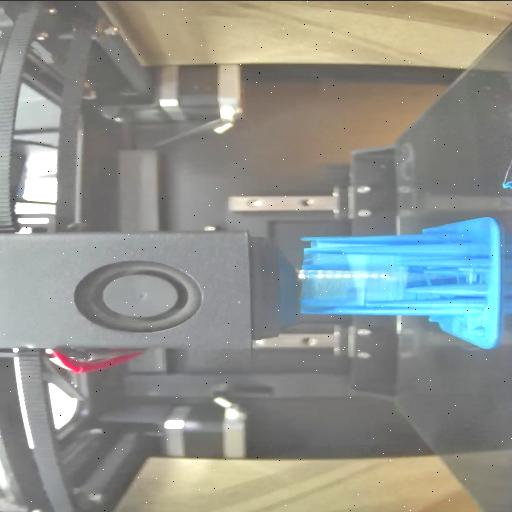stringing: (302, 244, 408, 303), (418, 266, 492, 286), (468, 314, 480, 326)
